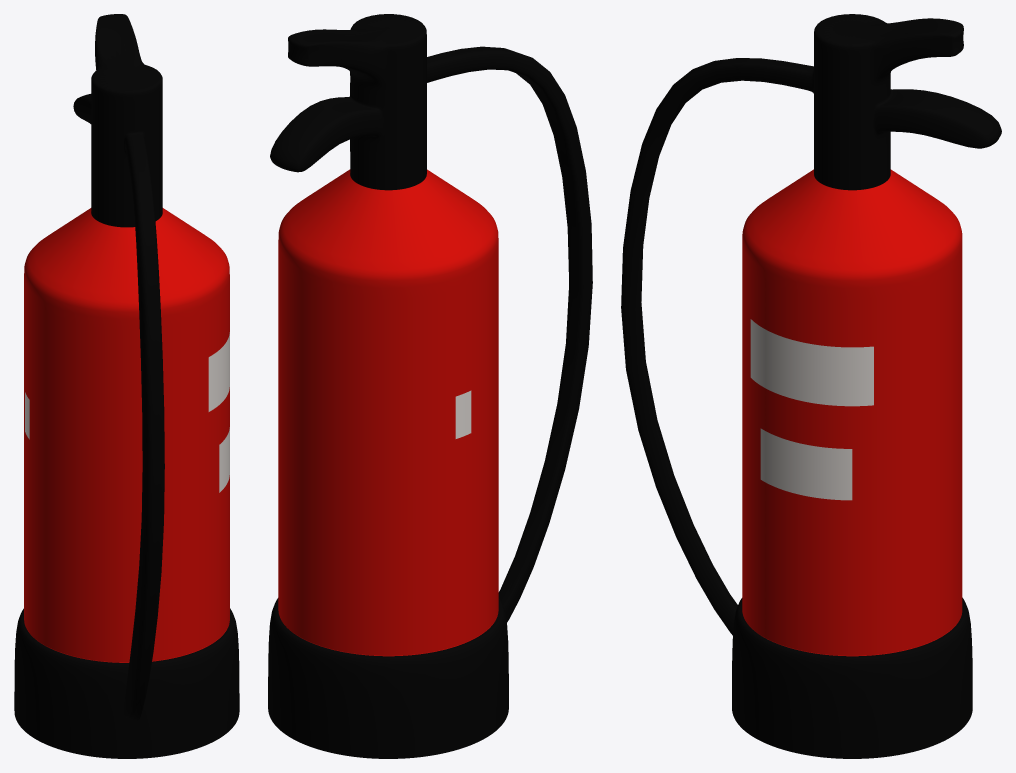
Rendered from extintor5.fbx.
3 renders of one model, left to right at view 1: azimuth 30°, elevation 25°; view 2: azimuth 150°, elevation 25°; view 3: azimuth 270°, elevation 25°, orthographic. The views are drawn at different scales.
Visible parts, largest first — view 1: Cylinder; view 2: Cylinder; view 3: Cylinder.
Part boxes in pixels (x1,y1,x2,y2): Cylinder: [14, 14, 239, 758]; Cylinder: [268, 14, 592, 758]; Cylinder: [621, 14, 1001, 758].
Bounding box in the file's own units: 199 × 635 × 314.
